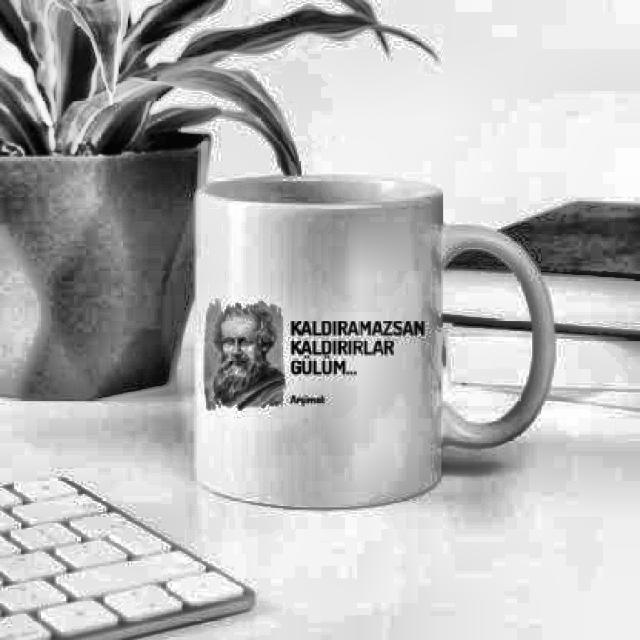Mug: (193, 174, 556, 508)
